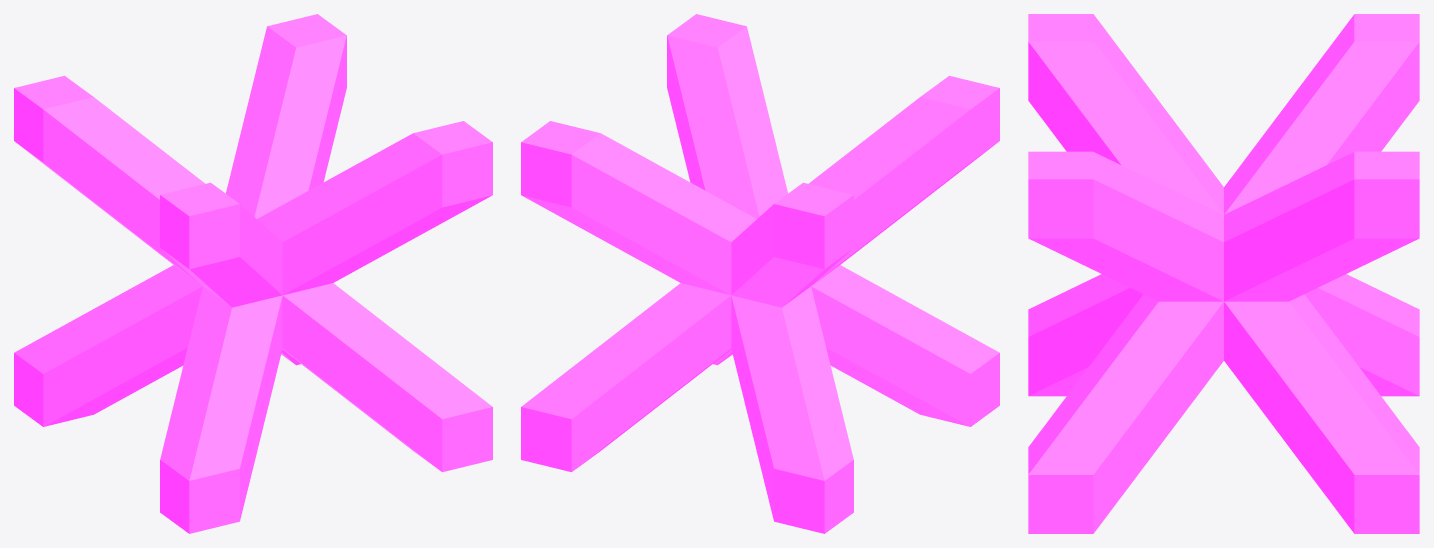
The model's file is Crystal.fbx.
3 renders of one model, left to right at view 1: azimuth 30°, elevation 25°; view 2: azimuth 150°, elevation 25°; view 3: azimuth 270°, elevation 25°, orthographic. The views are drawn at different scales.
Visible parts, largest first — view 1: Cube.003; view 2: Cube.003; view 3: Cube.003.
Part boxes in pixels (x1=…): Cube.003: x1=14, y1=14, x2=492, y2=533; Cube.003: x1=521, y1=14, x2=999, y2=533; Cube.003: x1=1028, y1=14, x2=1419, y2=533.
Bounding box in the file's own units: 160 × 160 × 160.
